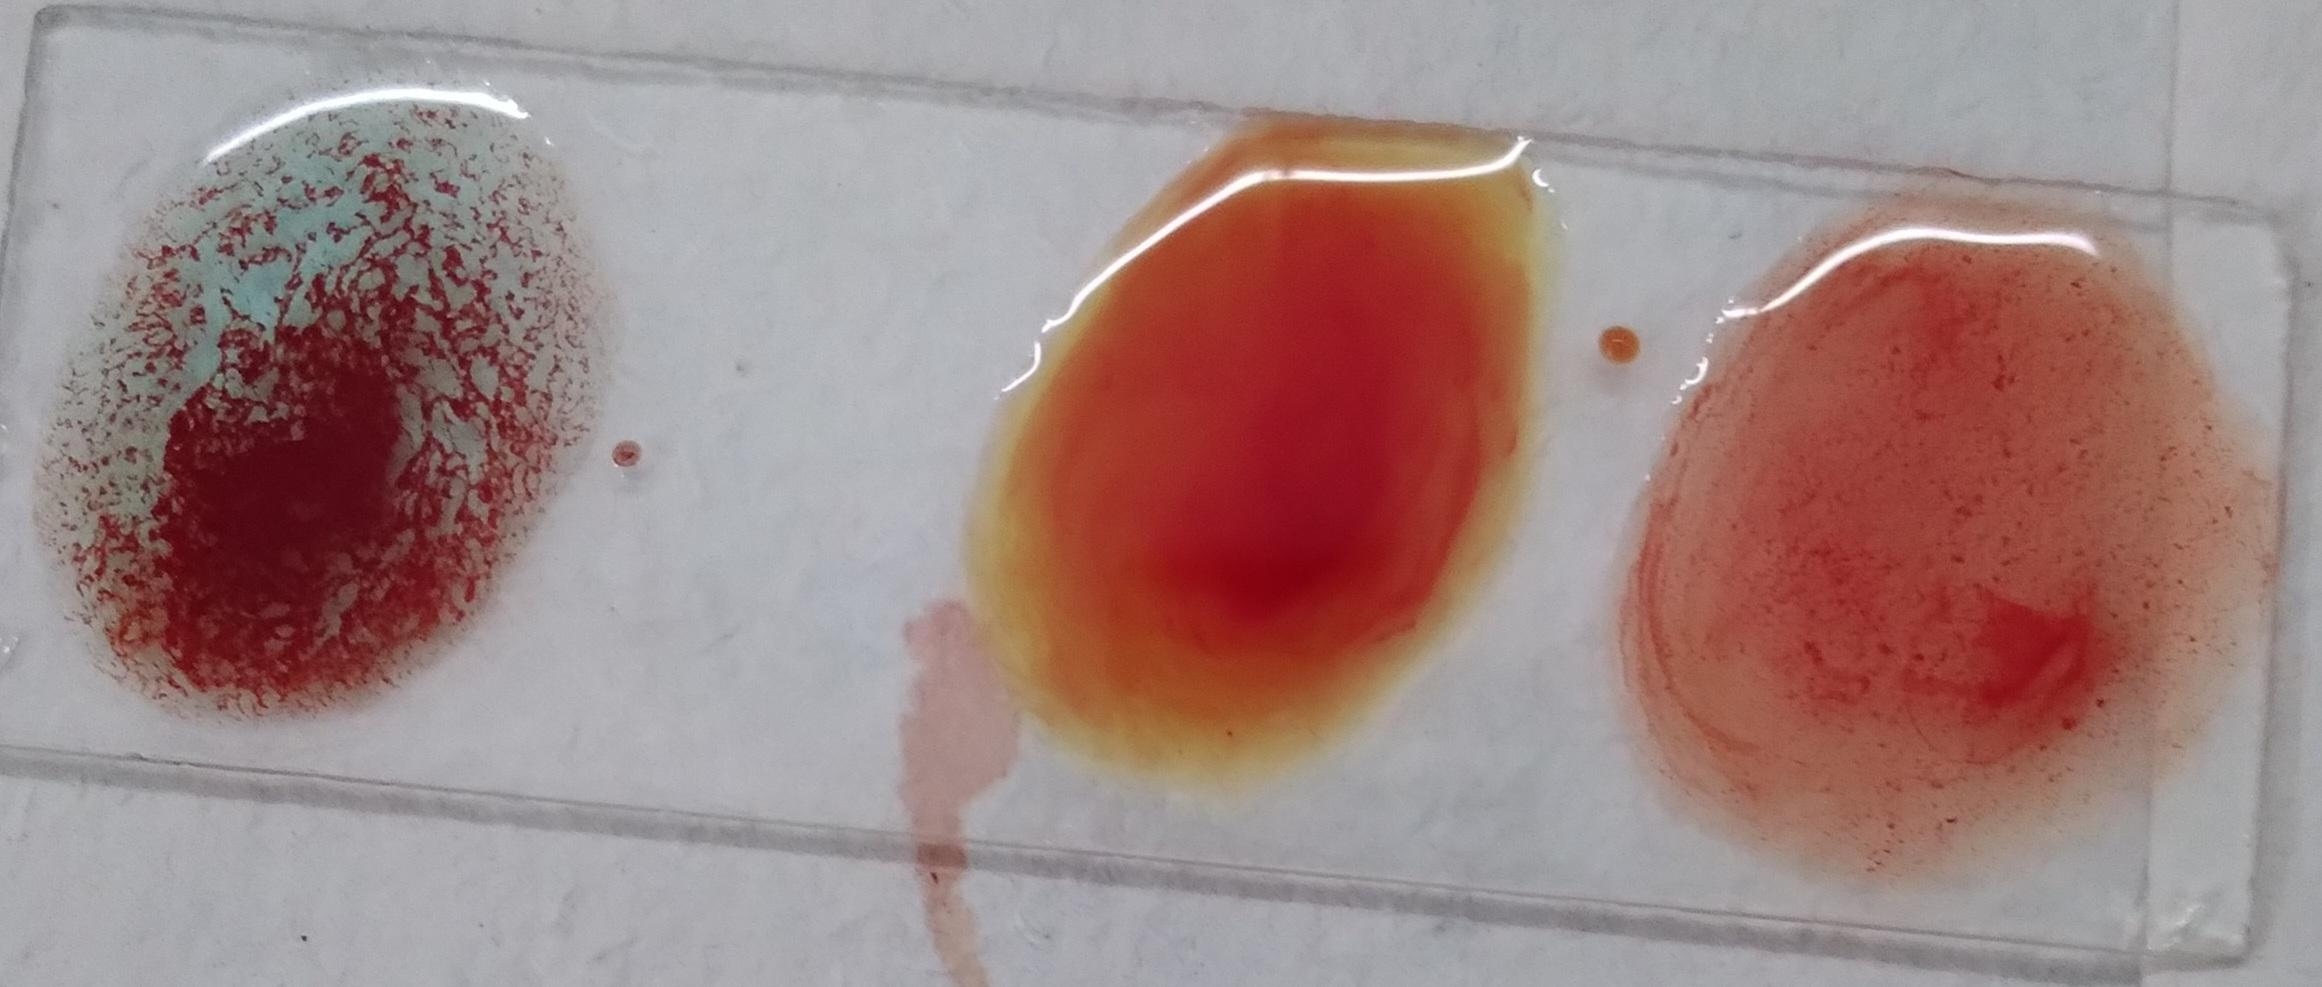A: (1755, 250, 2276, 897)
D: (28, 68, 668, 783)
